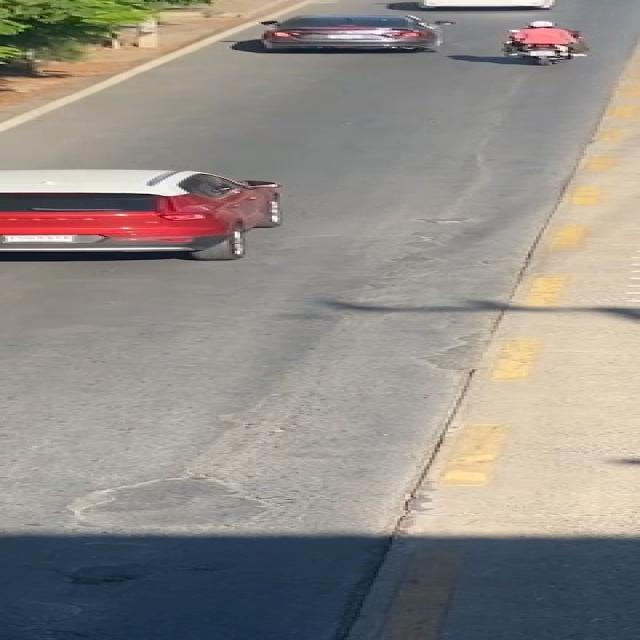car: (0, 161, 301, 274), (221, 12, 480, 57)
